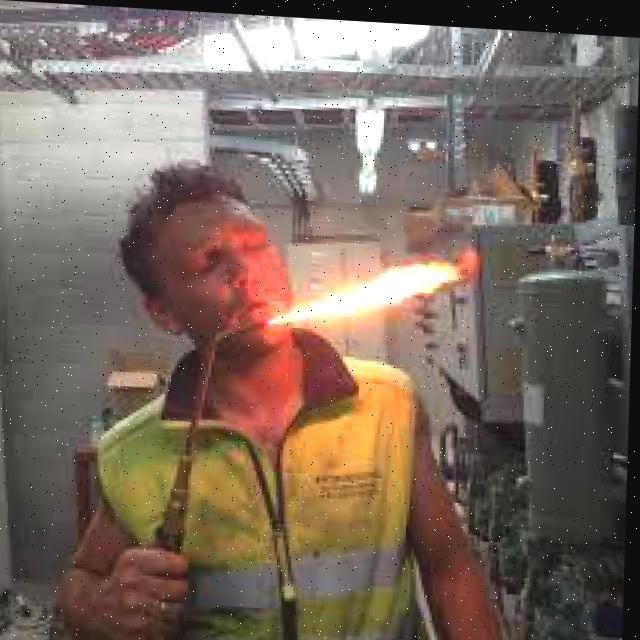Fire: (257, 240, 472, 335)
